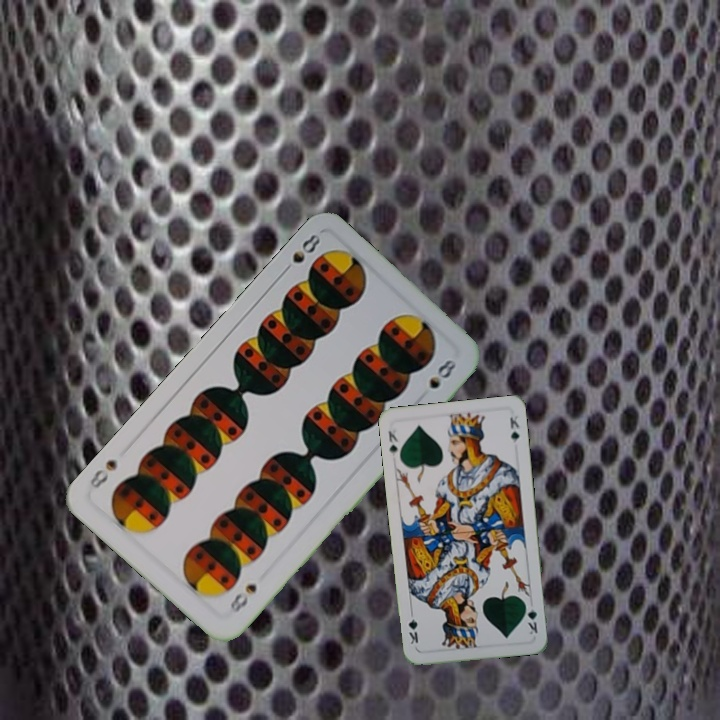GK: (521, 598, 540, 637), (384, 425, 400, 458)
S8: (277, 230, 324, 278), (225, 579, 260, 618)
